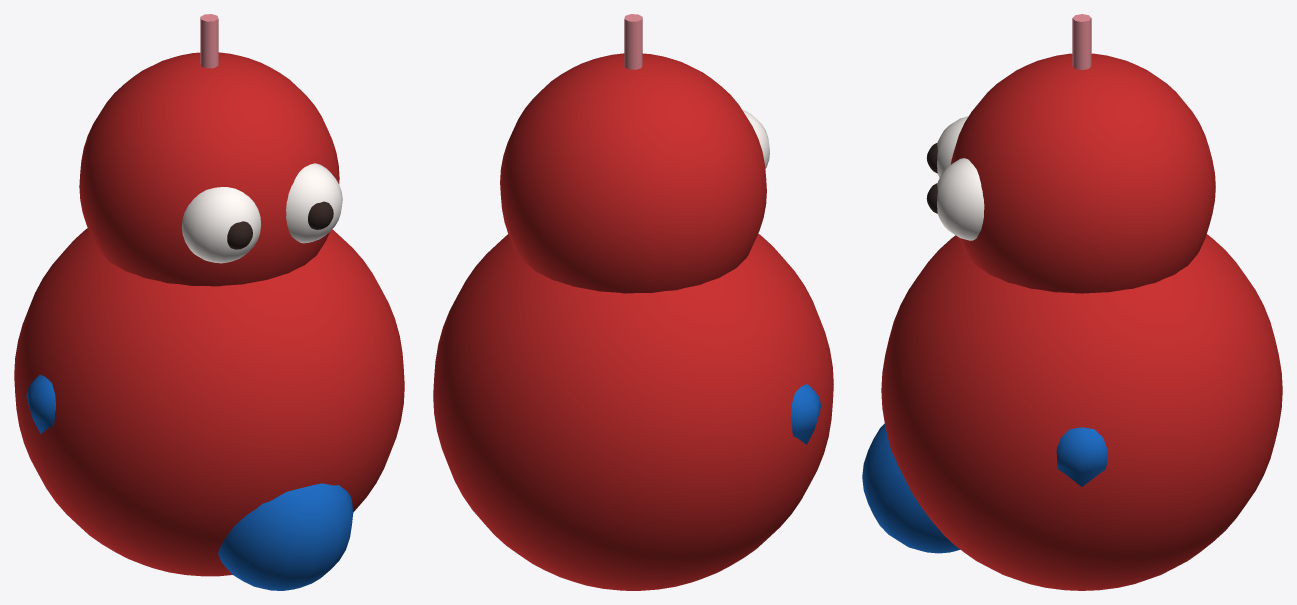
File: hero-character.glb
3 renders of one model, left to right at view 1: azimuth 30°, elevation 25°; view 2: azimuth 150°, elevation 25°; view 3: azimuth 270°, elevation 25°, orthographic. The views are drawn at different scales.
Parts seen in each view (by area): view 1: Body, Head, Details, EyeLeft, EyeRight, Eyes, YarnAttachment; view 2: Body, Head, Details, YarnAttachment; view 3: Body, Head, Details, EyeRight, YarnAttachment, EyeLeft.
Boxes of the visible parts, x1=… form: Body: x1=14, y1=228, x2=404, y2=576; Head: x1=79, y1=52, x2=339, y2=286; Details: x1=26, y1=374, x2=353, y2=590; EyeLeft: x1=181, y1=187, x2=260, y2=263; EyeRight: x1=286, y1=163, x2=342, y2=243; Eyes: x1=227, y1=201, x2=333, y2=249; YarnAttachment: x1=200, y1=14, x2=218, y2=68; Body: x1=433, y1=234, x2=833, y2=590; Head: x1=500, y1=53, x2=766, y2=293; Details: x1=790, y1=384, x2=821, y2=444; YarnAttachment: x1=624, y1=14, x2=642, y2=69; Body: x1=881, y1=234, x2=1282, y2=590; Head: x1=950, y1=53, x2=1215, y2=293; Details: x1=862, y1=423, x2=1107, y2=553; EyeRight: x1=937, y1=158, x2=984, y2=240; YarnAttachment: x1=1072, y1=14, x2=1091, y2=69; EyeLeft: x1=937, y1=116, x2=968, y2=177.
Bounding box in the file's own units: 0.8894 × 1.28 × 0.88.
